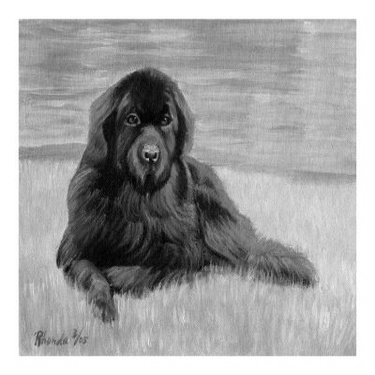dog: (47, 53, 325, 328)
